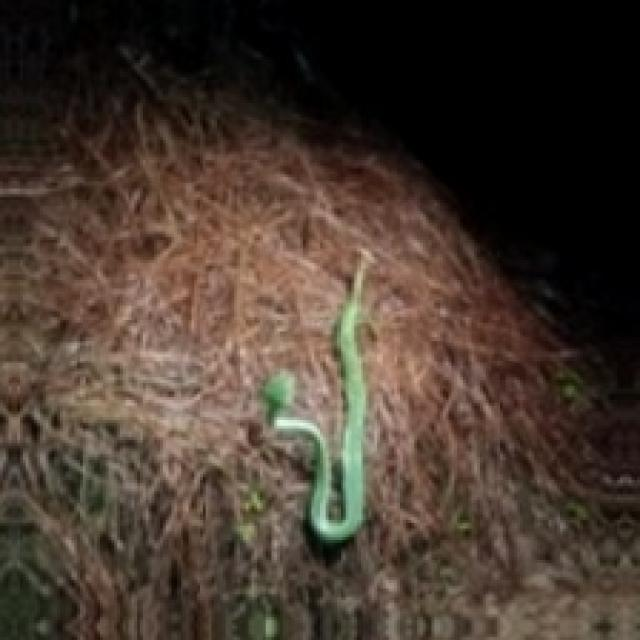north ph temple pitviper: (263, 251, 369, 543)
